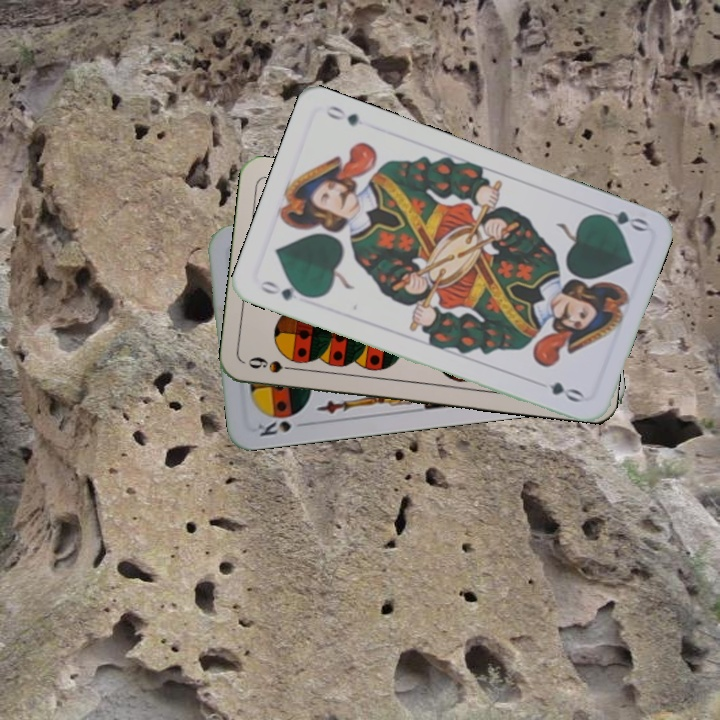GO: (256, 276, 314, 304), (590, 207, 650, 234)
S9: (244, 353, 302, 376)
SK: (252, 417, 311, 439)
